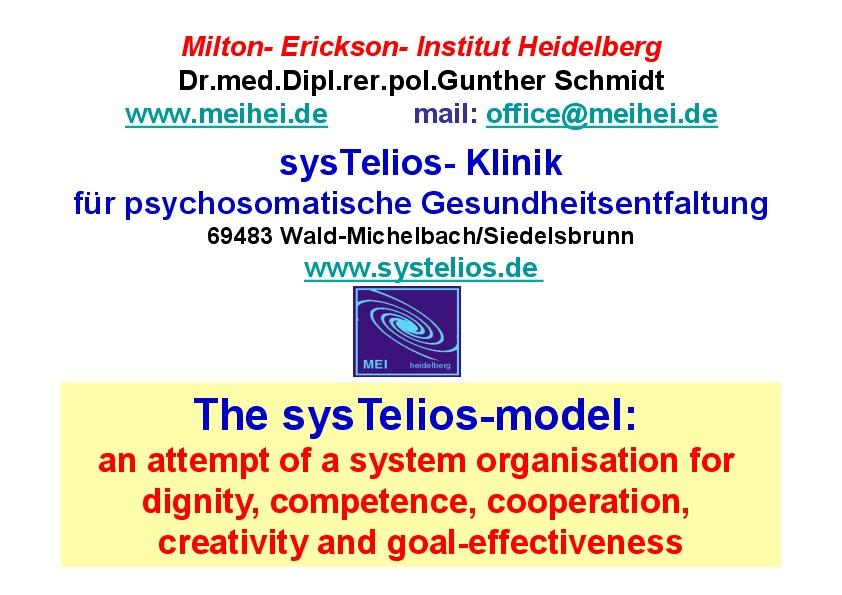paragraph: (53, 22, 810, 284)
subtitle: (68, 382, 796, 583)
